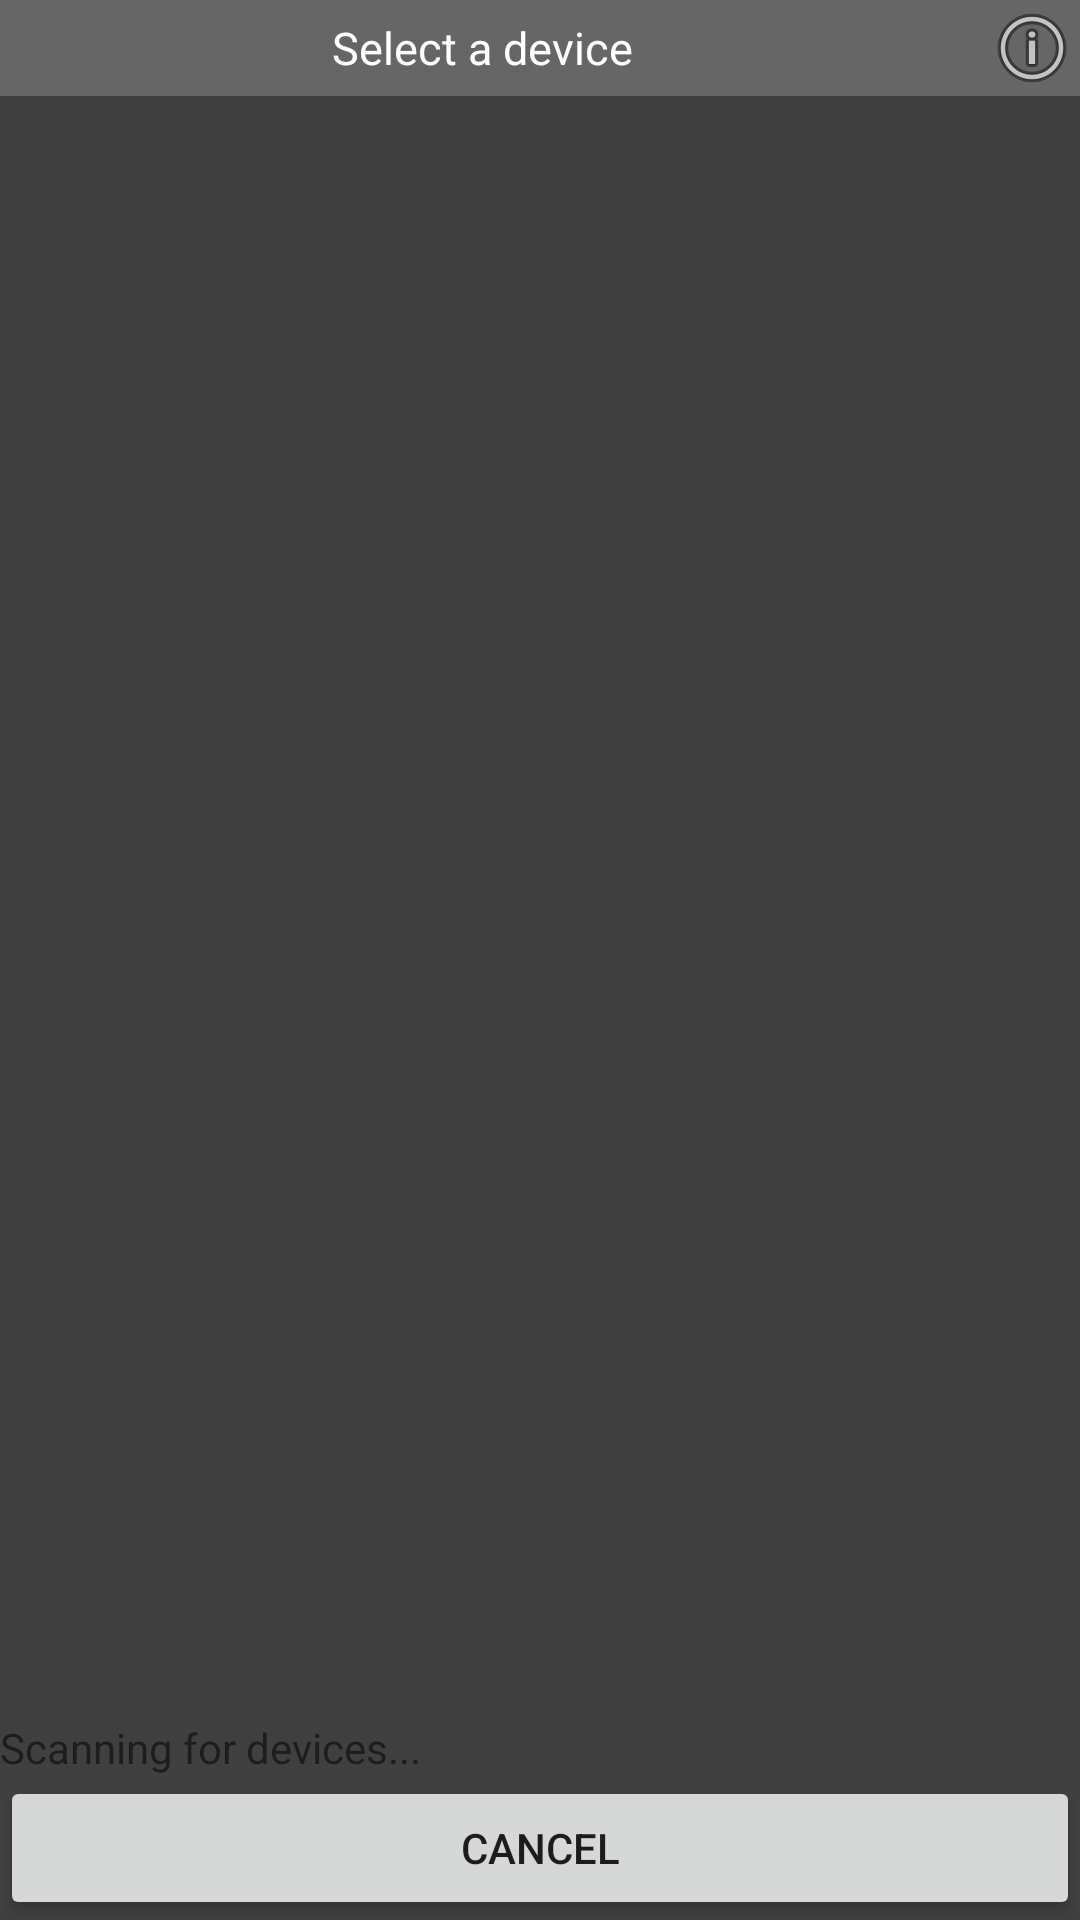

Locate icon controls on the screen. Image size 1080*1920, boxes as (x1, y1, x2, y2).
info details: (998, 14, 1066, 82)
